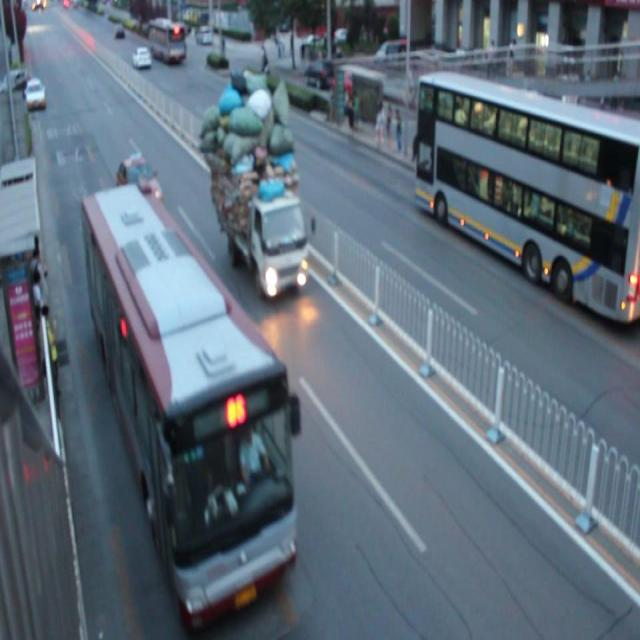bus: (215, 69, 305, 298)
car: (116, 152, 164, 214)
van: (83, 183, 291, 615), (416, 74, 640, 318)
